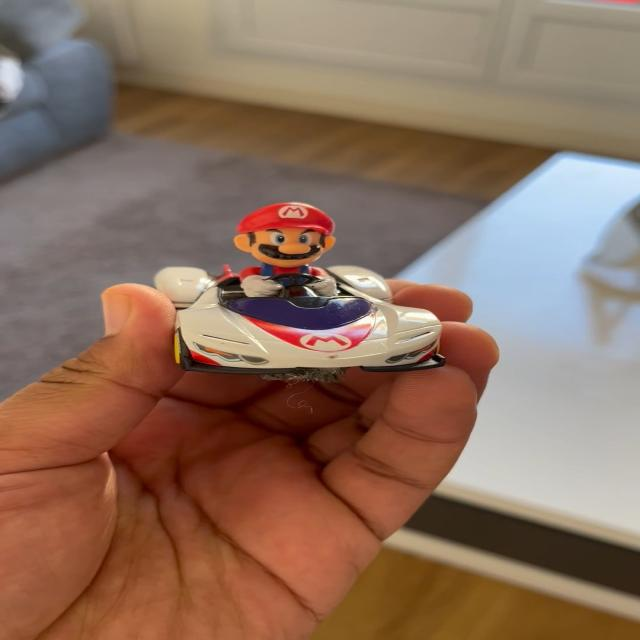mario: (135, 199, 459, 384)
